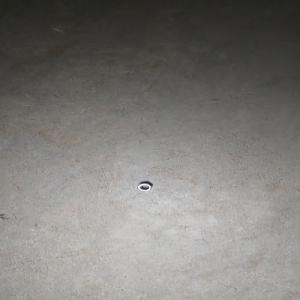Nut: (136, 181, 152, 192)
